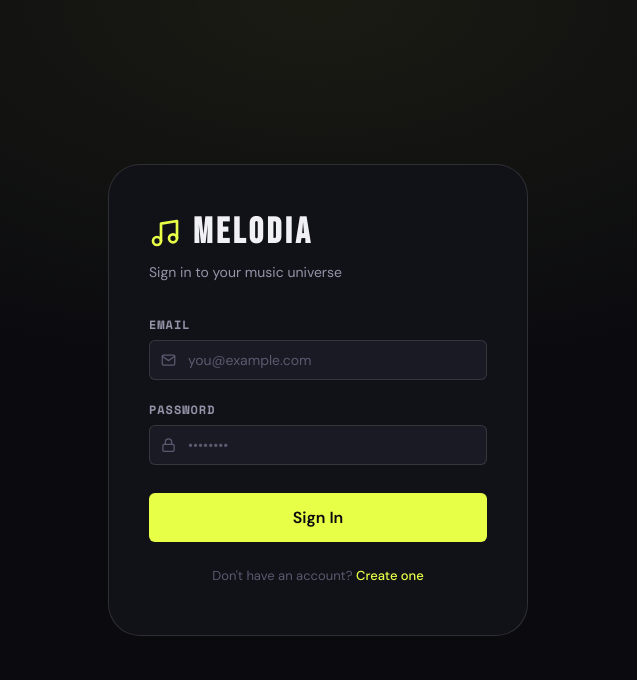
Scenario: LoginPage › shows error for invalid email format
This screenshot has width=637, height=680.
In the field with placeholder "you@example.com": (318, 360) x1=149 y1=340 x2=487 y2=380, type "notanemail"
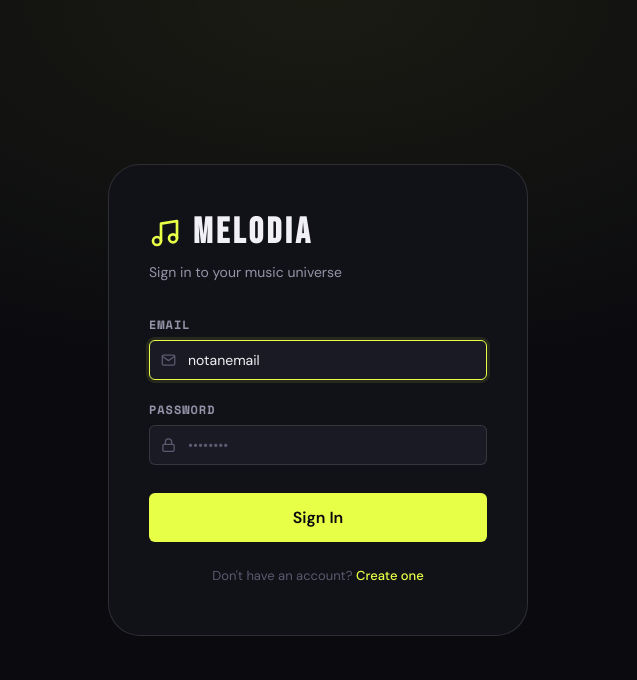
Click the button "Sign In": (318, 518) x1=149 y1=493 x2=487 y2=542
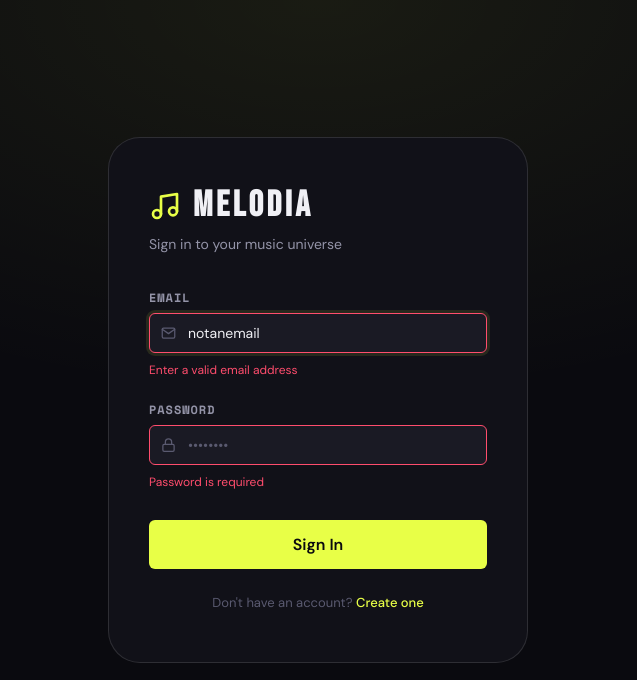
Result: the text "Enter a valid email address" is shown at x1=149 y1=362 x2=298 y2=378
